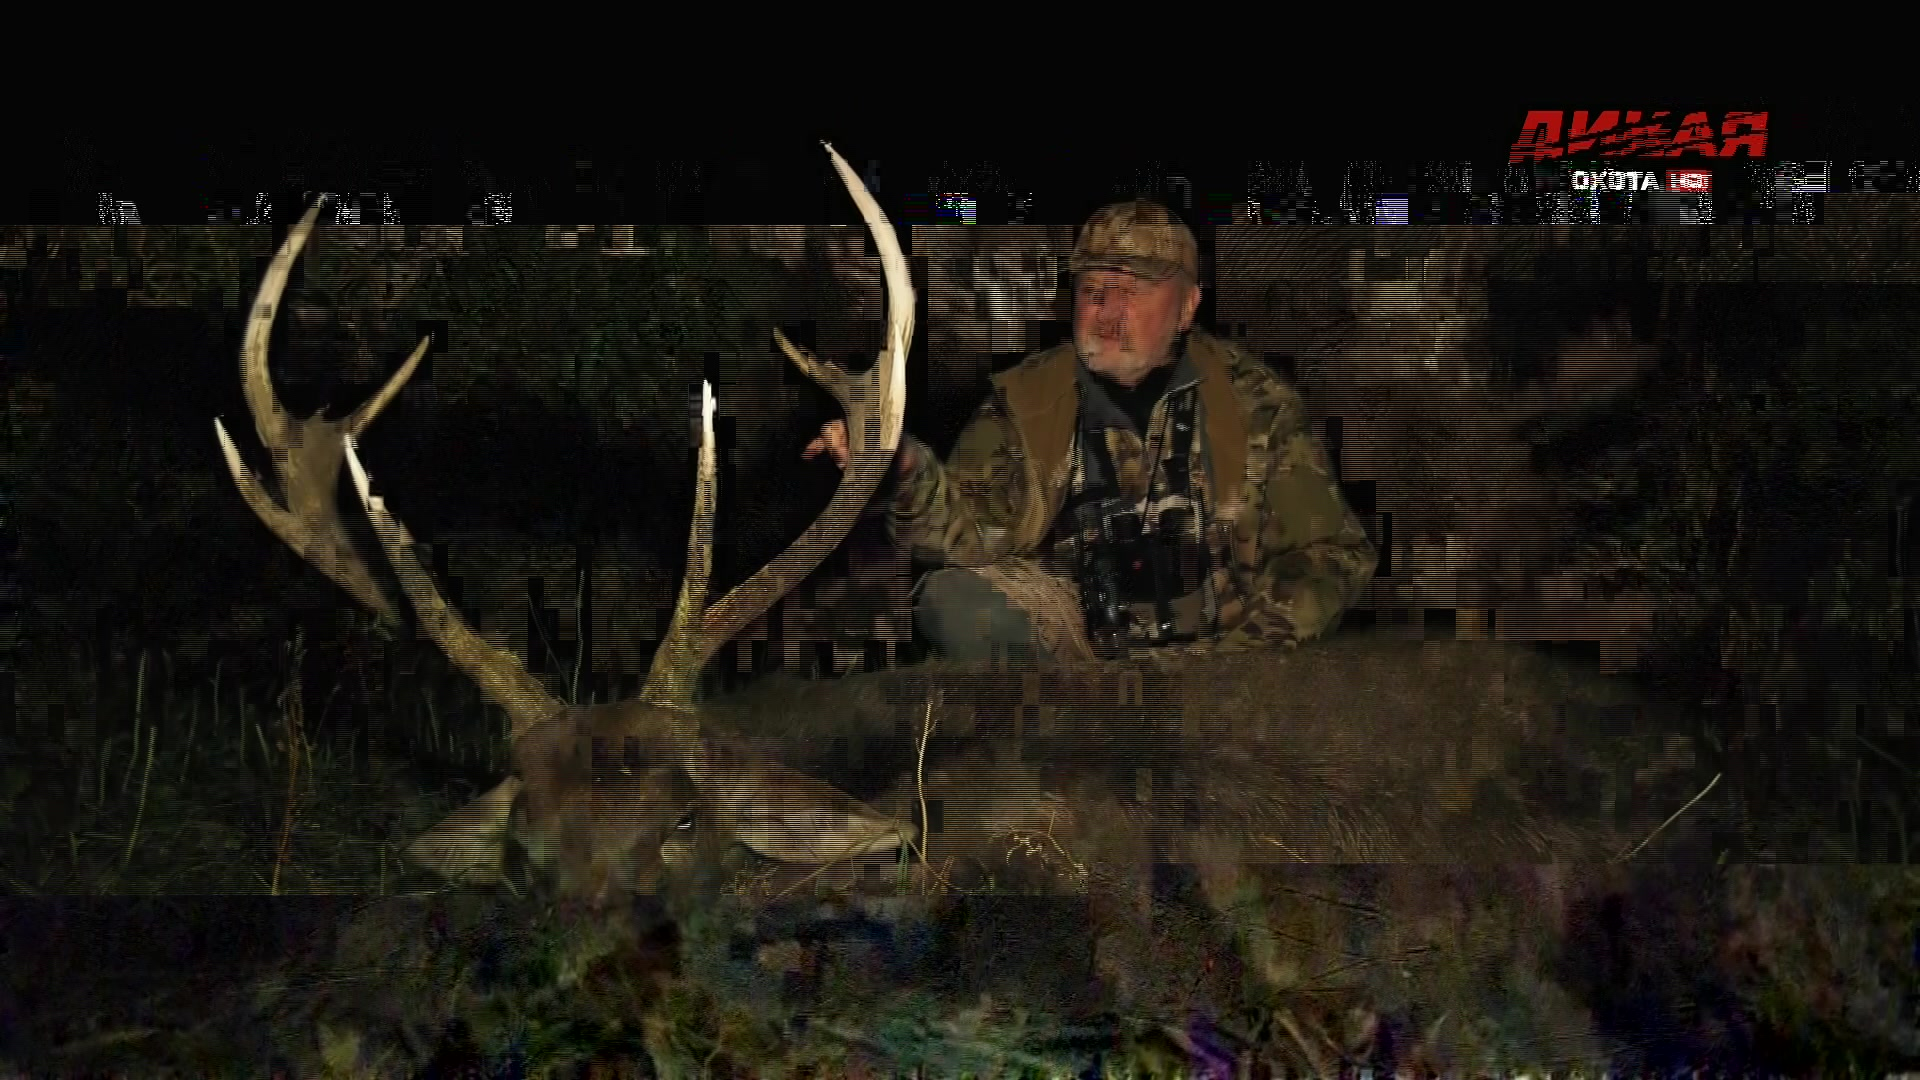Dikaya_Ohota_HD: (1502, 108, 1778, 195)
